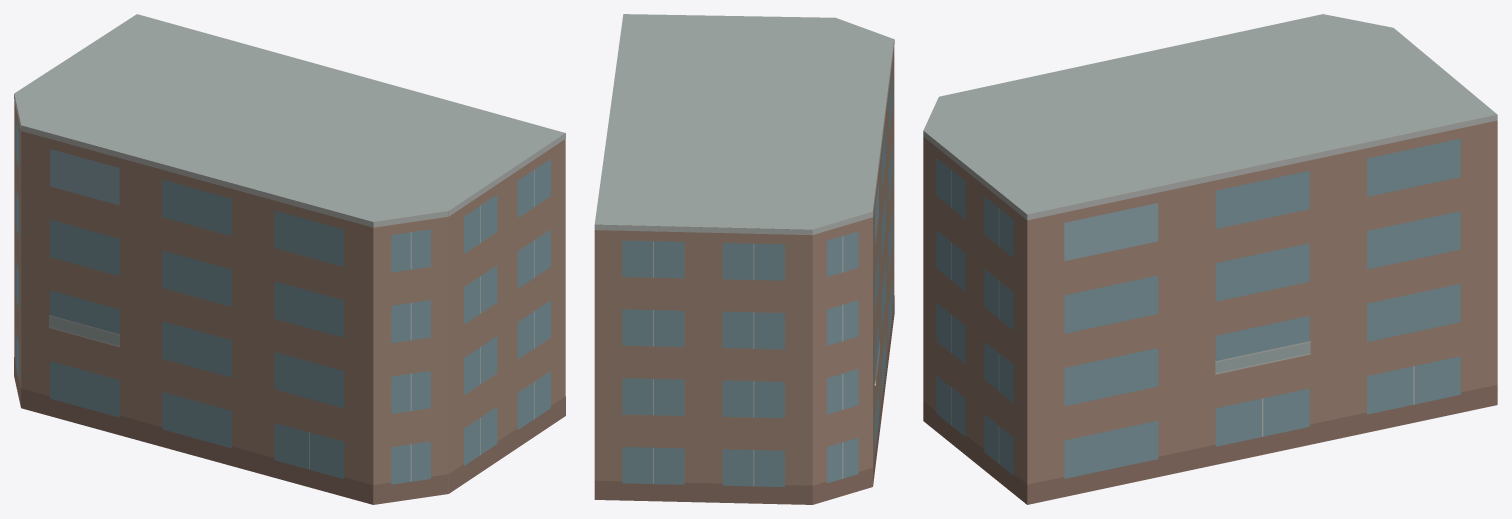
File: survey-upis-32834801.glb
3 renders of one model, left to right at view 1: azimuth 30°, elevation 25°; view 2: azimuth 150°, elevation 25°; view 3: azimuth 270°, elevation 25°, orthographic. The views are drawn at different scales.
Visible parts, largest first — view 1: survey-upis-32834801.tmp; view 2: survey-upis-32834801.tmp; view 3: survey-upis-32834801.tmp.
Part boxes in pixels (bbox=[...]): survey-upis-32834801.tmp: bbox=[14, 14, 565, 504]; survey-upis-32834801.tmp: bbox=[594, 14, 894, 504]; survey-upis-32834801.tmp: bbox=[923, 14, 1497, 504].
Bounding box in the file's own units: 18.09 × 12.2 × 21.89.
